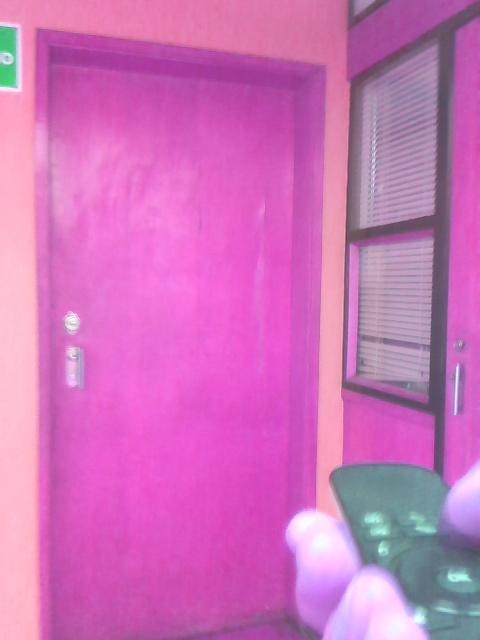closed_door: (32, 25, 325, 638)
